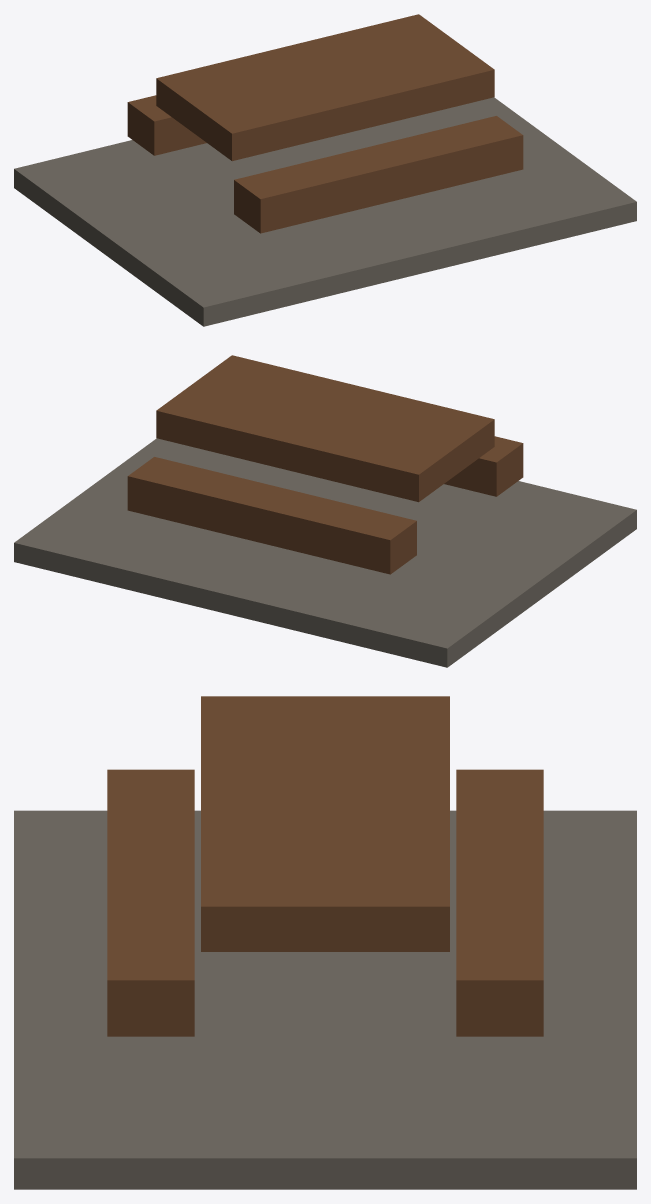
Rendered from Picnic-area.glb.
3 views of the same model, one above another, from view 1: azimuth 30°, elevation 25°; view 2: azimuth 150°, elevation 25°; view 3: azimuth 270°, elevation 25° (orthographic). The views are drawn at different scales.
Parts seen in each view (by area): view 1: picnic-area-static-picnic-stone, picnic-area-static-picnic-timber; view 2: picnic-area-static-picnic-stone, picnic-area-static-picnic-timber; view 3: picnic-area-static-picnic-stone, picnic-area-static-picnic-timber.
Boxes of the visible parts, bbox=[...] form: picnic-area-static-picnic-stone: bbox=[14, 97, 636, 326]; picnic-area-static-picnic-timber: bbox=[127, 14, 523, 233]; picnic-area-static-picnic-stone: bbox=[14, 438, 636, 667]; picnic-area-static-picnic-timber: bbox=[127, 355, 523, 574]; picnic-area-static-picnic-stone: bbox=[14, 810, 636, 1189]; picnic-area-static-picnic-timber: bbox=[107, 696, 543, 1036].
Bounding box in the file's own units: 3.3 × 0.95 × 2.5.
